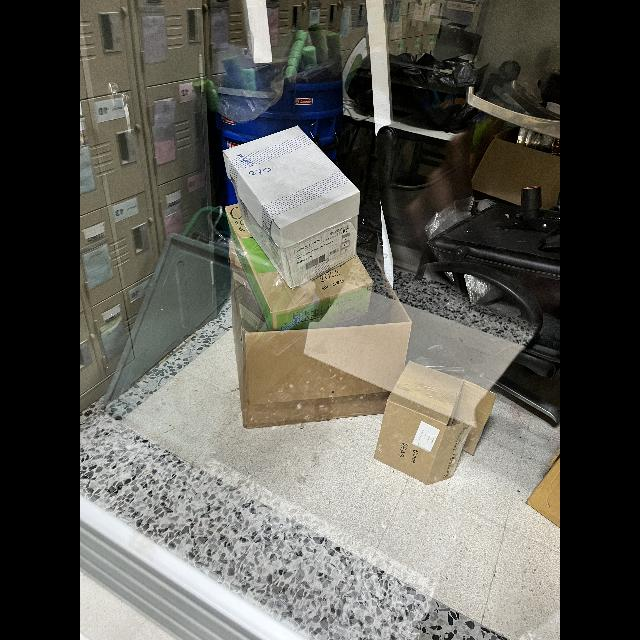cardboard_box: (215, 243, 413, 431), (217, 124, 369, 290), (374, 357, 498, 479)
